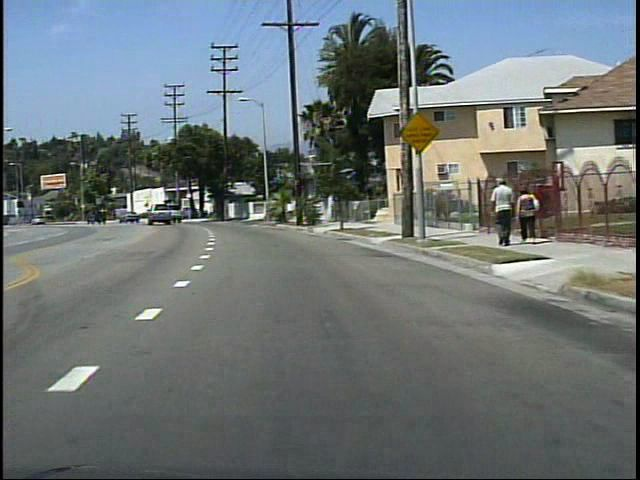person: (487, 176, 512, 248), (511, 184, 538, 243)
